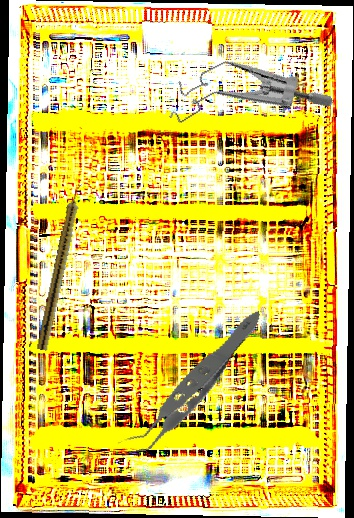Handpiece: (36, 182, 86, 352)
Speculum: (156, 22, 336, 174)
Tissue Forceps: (90, 310, 288, 459)
